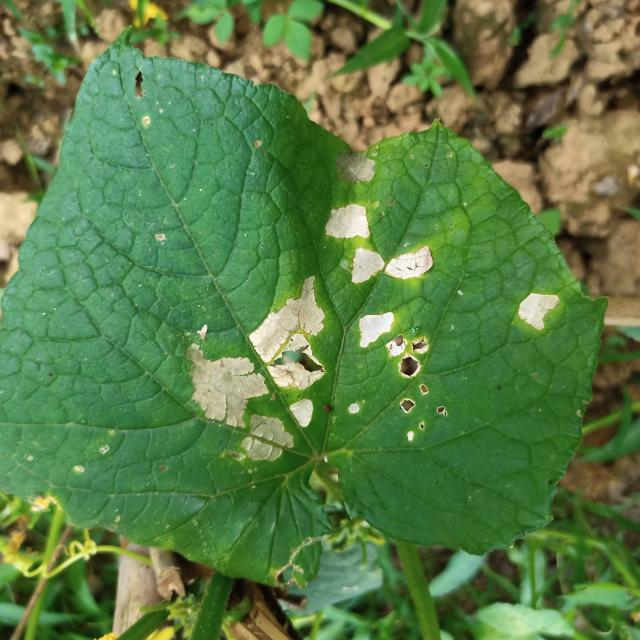disease_cucumber: (180, 264, 332, 474), (342, 302, 450, 449), (320, 199, 437, 288), (510, 280, 563, 341)
